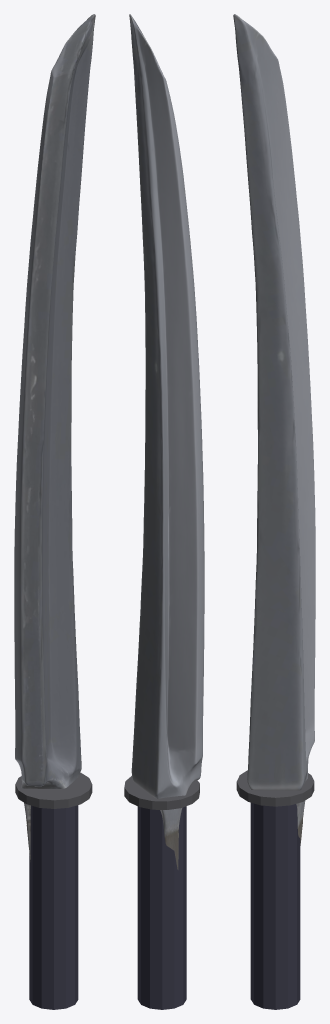
Rendered from weapon_katana_01.glb.
3 renders of one model, left to right at view 1: azimuth 90°, elevation 25°; view 2: azimuth 210°, elevation 25°; view 3: azimuth 270°, elevation 25°, orthographic.
Visible parts, largest first — view 1: tripo_node_b2055a16-a2db-4b18-91f0-c364fb87d8cd; view 2: tripo_node_b2055a16-a2db-4b18-91f0-c364fb87d8cd; view 3: tripo_node_b2055a16-a2db-4b18-91f0-c364fb87d8cd.
Boxes of the visible parts, x1=… form: tripo_node_b2055a16-a2db-4b18-91f0-c364fb87d8cd: x1=14, y1=14, x2=95, y2=1009; tripo_node_b2055a16-a2db-4b18-91f0-c364fb87d8cd: x1=124, y1=14, x2=204, y2=1009; tripo_node_b2055a16-a2db-4b18-91f0-c364fb87d8cd: x1=233, y1=14, x2=315, y2=1009.
Size of the model in its own units: 0.0412 by 0.58 by 0.0437.
3 materials, 1 textured.
